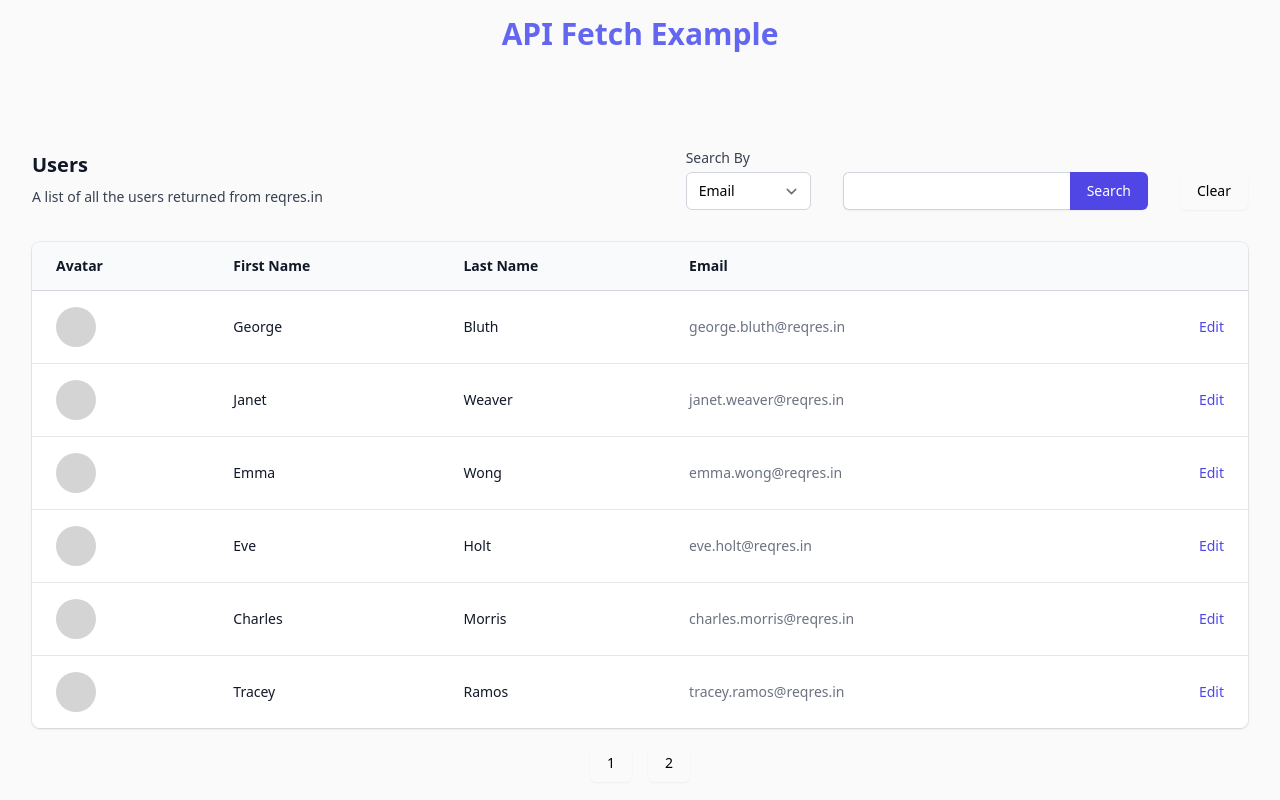
Scenario: should show only the valid search result when searching via email address
This screenshot has width=1280, height=800.
Note: ensure that the email option is selected from the search type select
Select "Email" in the dropdown with test id "searchType" at (748, 191), box [686,172,811,210]
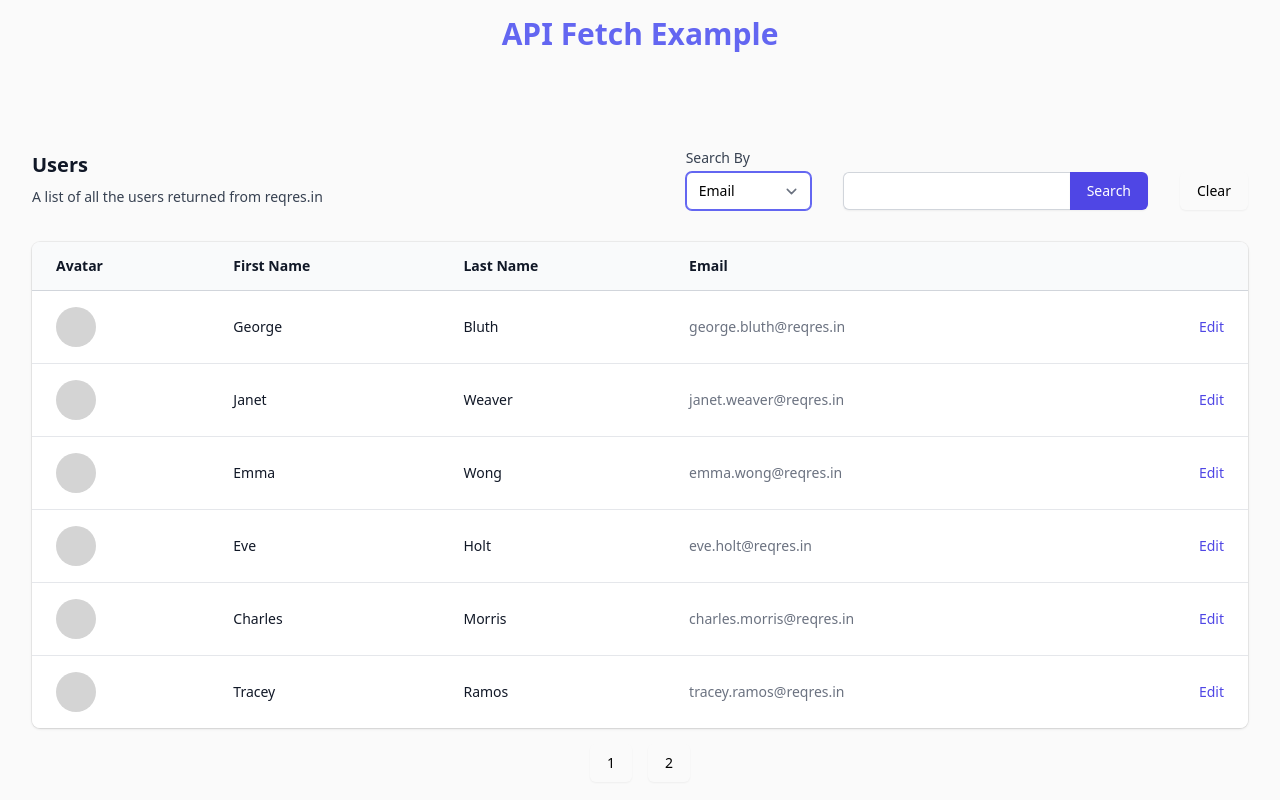
Type "eve.holt@reqres.in" into the field with test id "searchInput" at (956, 191), box [843,172,1070,210]
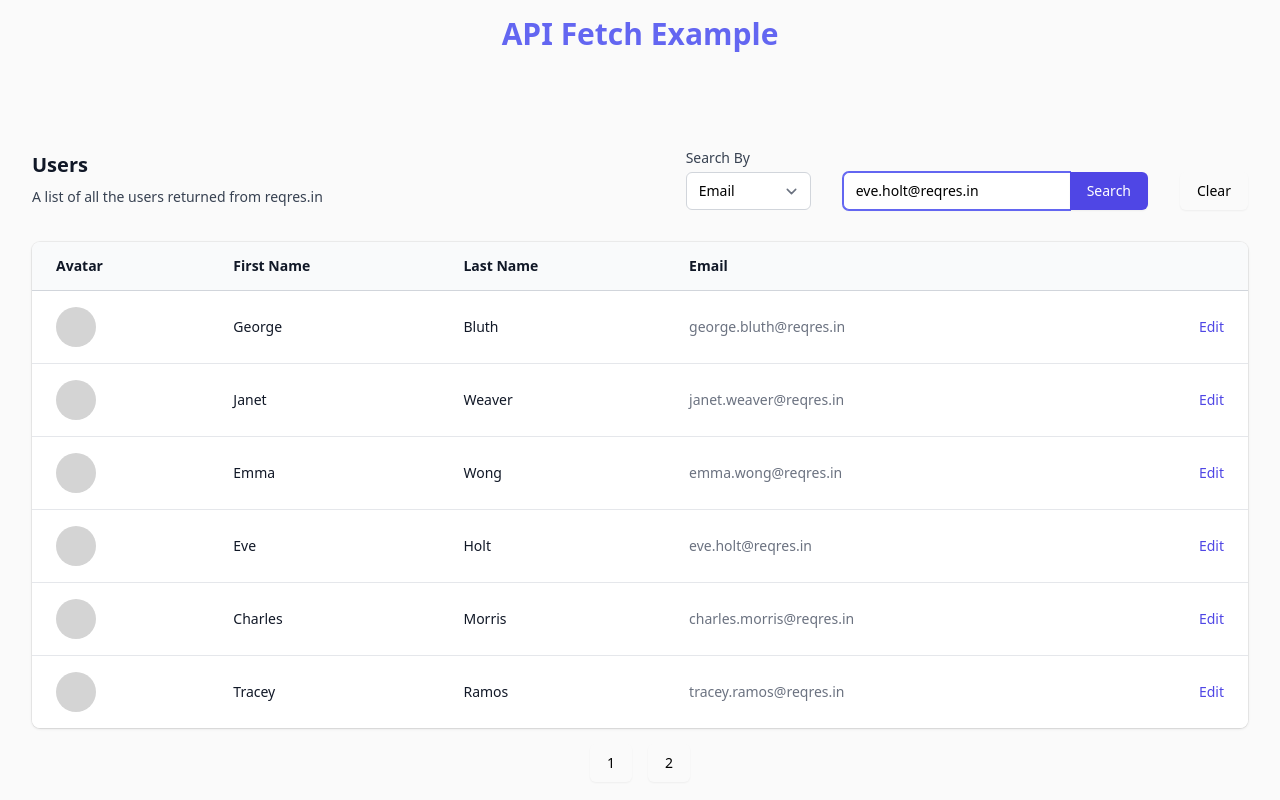
Note: click search button
Click the button "Search" at (1109, 191), box [1070,172,1148,210]
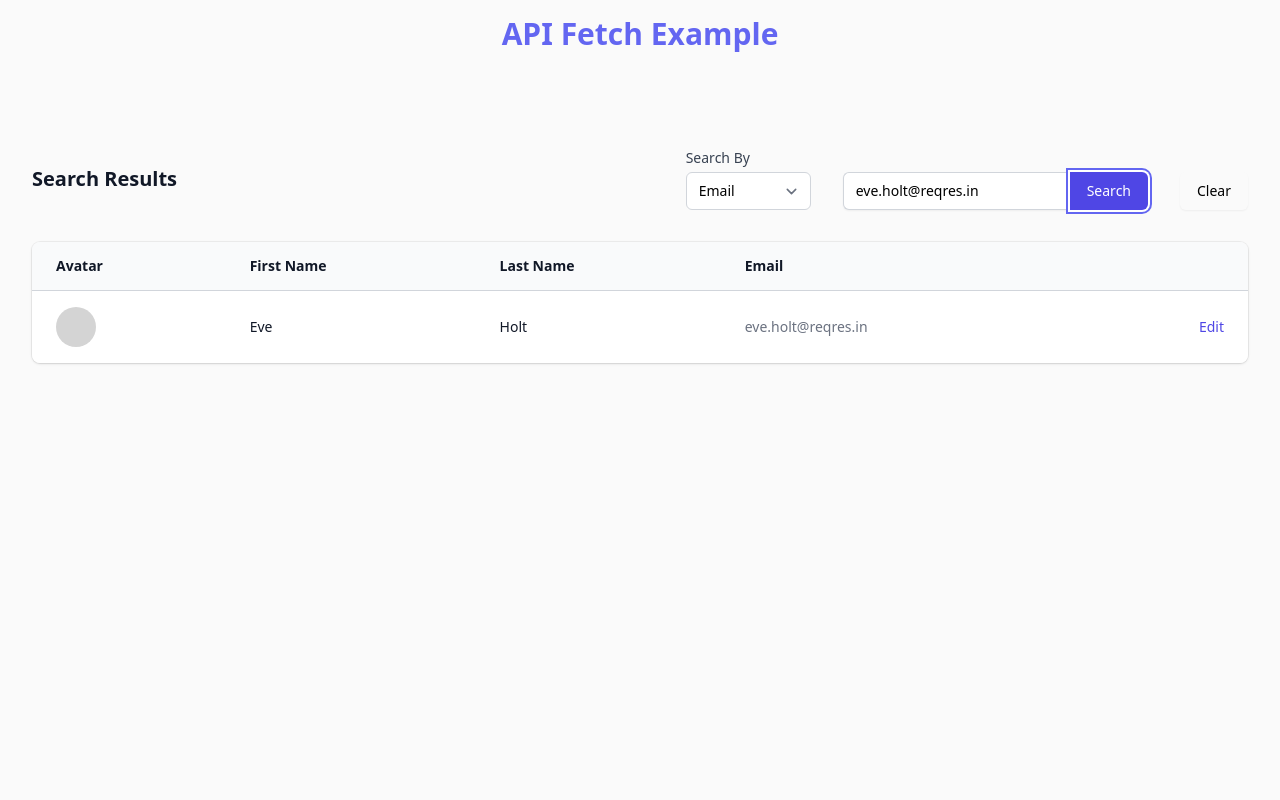
Expected: the heading "Search Results" is shown, [32,165,177,192]
Expected: the text "george.bluth@reqres.in" is gone
Expected: the text "janet.weaver@reqres.in" is gone
